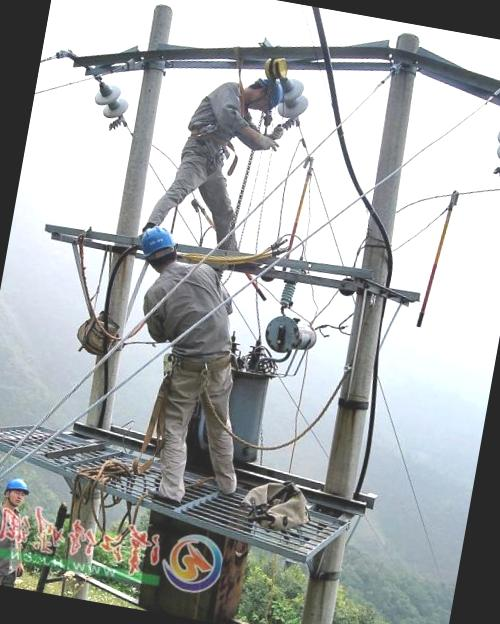person: (100, 224, 278, 516), (128, 58, 285, 254)
